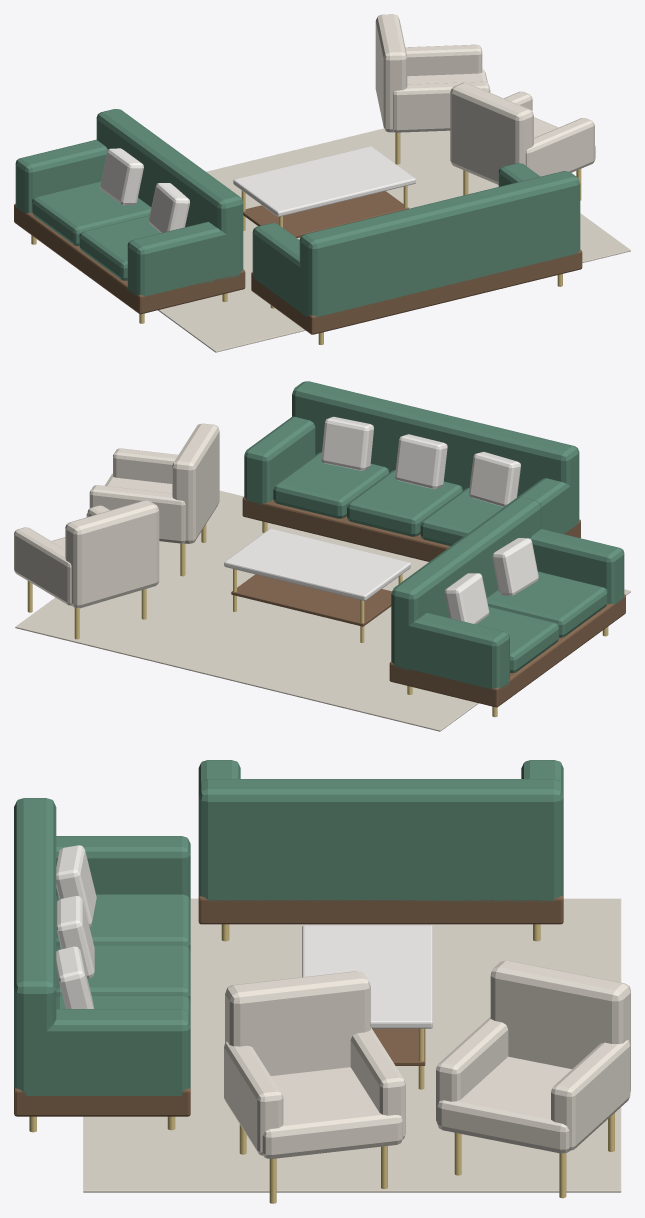
File: oturma-grubu-tam-takim.glb
The picture shows the model from 3 angles, top to bottom: view 1: azimuth 30°, elevation 25°; view 2: azimuth 150°, elevation 25°; view 3: azimuth 270°, elevation 25°; orthographic projection. The views are drawn at different scales.
Visible parts, largest first — view 1: Sofa_Back, Room_Rug, Sofa_Back.001, CT_Top, Sofa_Arm.002, AC_Back, Sofa_Base, Sofa_Base.001, Sofa_Arm.003, Sofa_Seat_1.001, Sofa_Arm, CT_Shelf (+9 smaller); view 2: Room_Rug, Sofa_Back, AC_Back.001, Sofa_Back.001, CT_Top, Sofa_Arm.003, Sofa_Base.001, Sofa_Base, Sofa_Seat_1, Sofa_Seat_2, Sofa_Arm.002, Sofa_Seat_0.001 (+15 smaller); view 3: Room_Rug, Sofa_Back.001, Sofa_Arm.001, AC_Back, AC_Back.001, Sofa_Back, CT_Top, Sofa_Base.001, AC_Seat, AC_Seat.001, Sofa_Arm, AC_Arm.002 (+13 smaller).
Boxes of the visible parts, x1,y1,x2,y2 form: Sofa_Back: [299, 171, 580, 317]; Room_Rug: [158, 128, 630, 352]; Sofa_Back.001: [96, 109, 243, 276]; CT_Top: [233, 146, 415, 216]; Sofa_Arm.002: [127, 222, 238, 296]; AC_Back: [450, 83, 533, 184]; Sofa_Base: [251, 250, 582, 334]; Sofa_Base.001: [14, 203, 245, 314]; Sofa_Arm.003: [15, 139, 107, 213]; Sofa_Seat_1.001: [32, 181, 151, 246]; Sofa_Arm: [252, 223, 307, 317]; CT_Shelf: [243, 191, 408, 237]; Room_Rug: [15, 490, 630, 731]; Sofa_Back: [292, 381, 579, 528]; AC_Back.001: [65, 500, 159, 608]; Sofa_Back.001: [391, 497, 541, 670]; CT_Top: [224, 528, 410, 600]; Sofa_Arm.003: [408, 613, 509, 689]; Sofa_Base.001: [389, 594, 625, 707]; Sofa_Base: [242, 497, 580, 561]; Sofa_Seat_1: [347, 470, 462, 536]; Sofa_Seat_2: [273, 452, 389, 518]; Sofa_Arm.002: [530, 529, 624, 604]; Sofa_Seat_0.001: [486, 571, 607, 637]; Room_Rug: [83, 898, 621, 1192]; Sofa_Back.001: [198, 779, 563, 902]; Sofa_Arm.001: [26, 1009, 190, 1095]; AC_Back: [225, 971, 370, 1075]; AC_Back.001: [490, 960, 630, 1092]; Sofa_Back: [14, 798, 56, 1093]; CT_Top: [302, 925, 432, 1028]; Sofa_Base.001: [198, 895, 563, 924]; AC_Seat: [262, 1067, 403, 1158]; AC_Seat.001: [437, 1056, 571, 1153]; Sofa_Arm: [56, 836, 190, 900]; AC_Arm.002: [551, 1040, 630, 1150].
Size of the model in its own units: 4.15 by 0.95 by 3.21.
